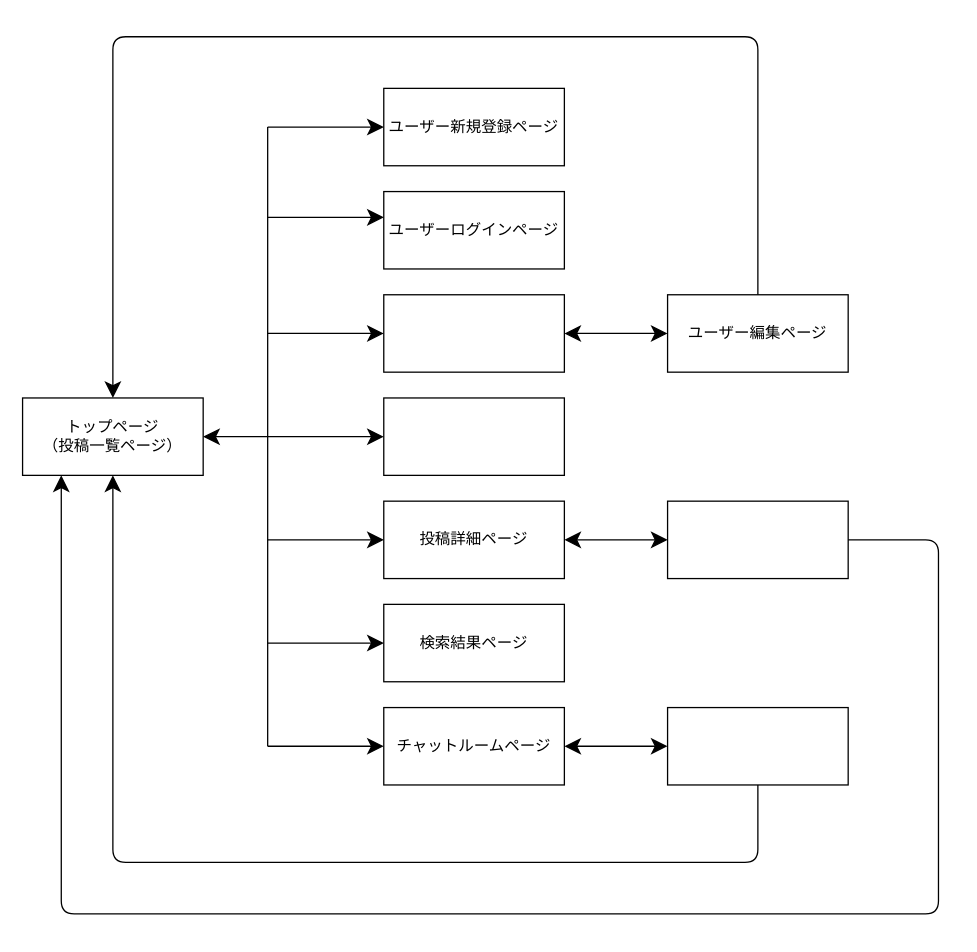
The diagram is 977 pixels wide and 952 high, and some of its shapes have lost their labels. Here are the shapes that lost their labels. From the top down, the centre of each, then its label:
(473,332): ユーザーマイページ （ユーザー詳細ページ）
(473,436): 投稿ページ
(757,539): 投稿編集ページ
(757,745): ルーム新規作成ページ
